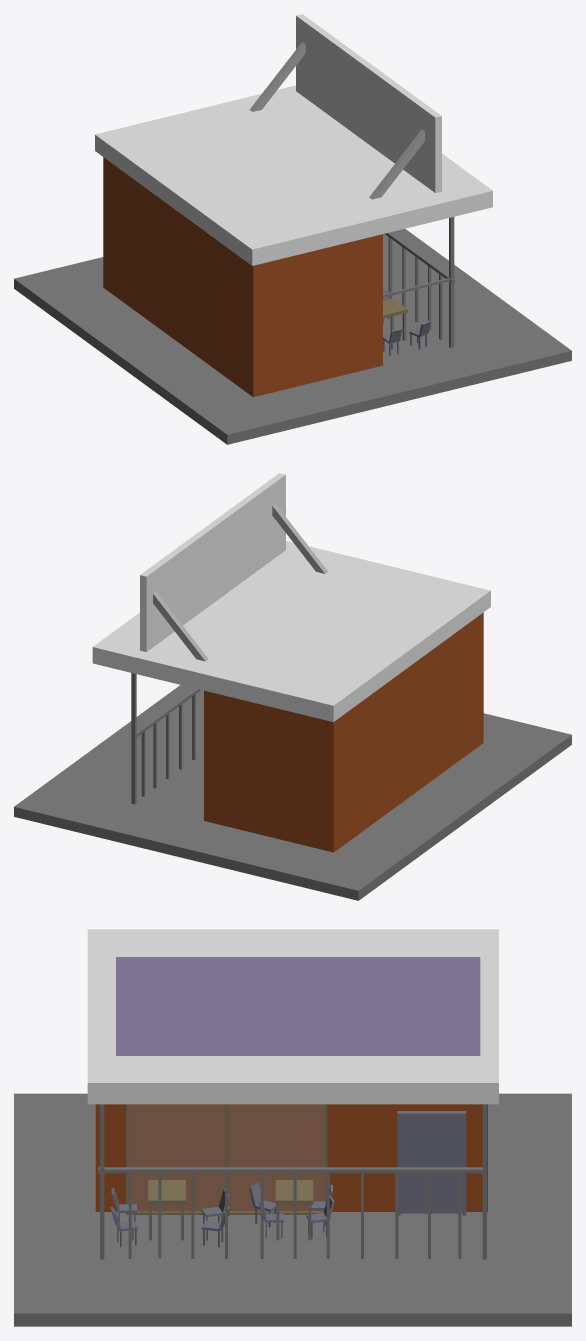
Rendered from shop3.fbx.
The picture shows the model from 3 angles, top to bottom: view 1: azimuth 30°, elevation 25°; view 2: azimuth 150°, elevation 25°; view 3: azimuth 270°, elevation 25°; orthographic projection. The views are drawn at different scales.
Parts seen in each view (by area): view 1: shop03; view 2: shop03; view 3: shop03.
Boxes of the visible parts, left/top/right/bottom form: shop03: left=14, top=14, right=571, bottom=444; shop03: left=14, top=473, right=571, bottom=900; shop03: left=14, top=929, right=571, bottom=1326.
Bounding box in the file's own units: 5.06 × 3.34 × 5.42.
